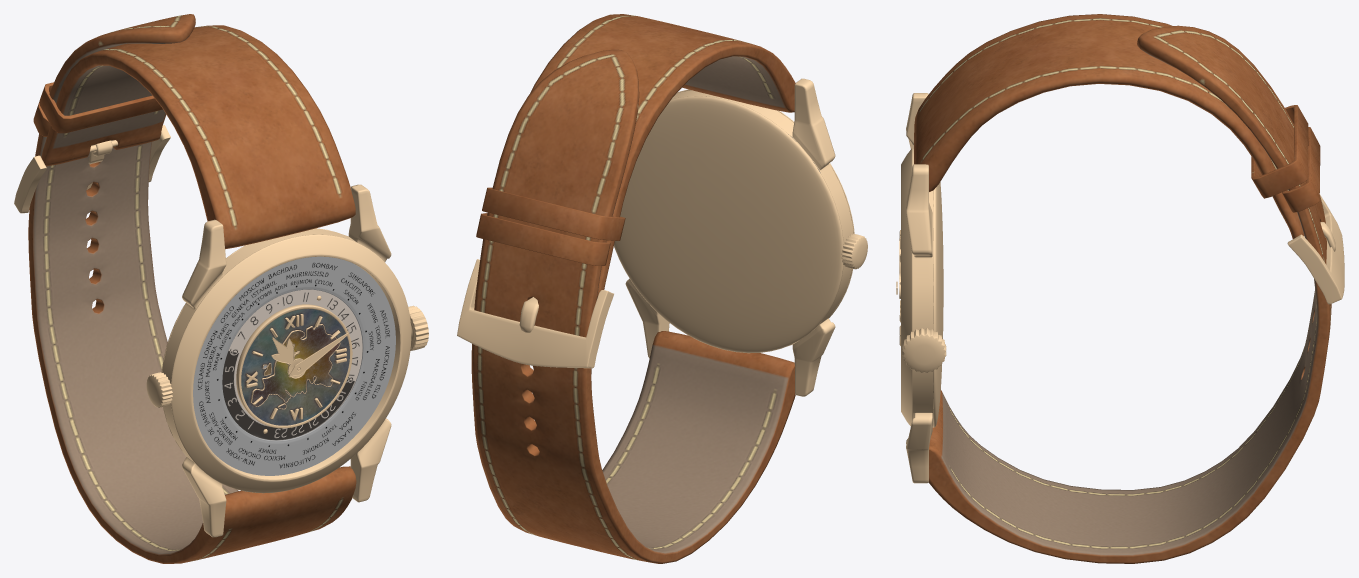
3 renders of one model, left to right at view 1: azimuth 30°, elevation 25°; view 2: azimuth 150°, elevation 25°; view 3: azimuth 270°, elevation 25°, orthographic.
Visible parts, largest first — view 1: with_uv_Object003, Object002_watch_0, Object001_watch_0, Hand_1; view 2: with_uv_Object003, Object003_watch_0, Object002_watch_0; view 3: with_uv_Object003, Object002_watch_0, Object003_watch_0.
Part boxes in pixels (<box>): with_uv_Object003: <box>14,14,428,563</box>; Object002_watch_0: <box>162,184,391,537</box>; Object001_watch_0: <box>271,337,305,378</box>; Hand_1: <box>288,332,349,377</box>; with_uv_Object003: <box>457,14,867,563</box>; Object003_watch_0: <box>614,96,843,353</box>; Object002_watch_0: <box>625,78,853,396</box>; with_uv_Object003: <box>899,14,1344,563</box>; Object002_watch_0: <box>906,93,933,483</box>; Object003_watch_0: <box>933,182,943,427</box>.
Size of what is drawn, in the model's own units: 1.61 by 2.83 by 2.31.
Materials: 1 (1 with a texture image).
